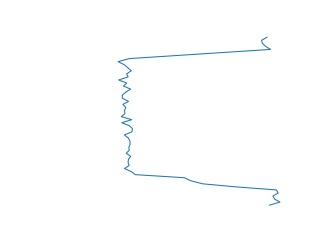distributaryChannelFill: (113, 35, 286, 207)
